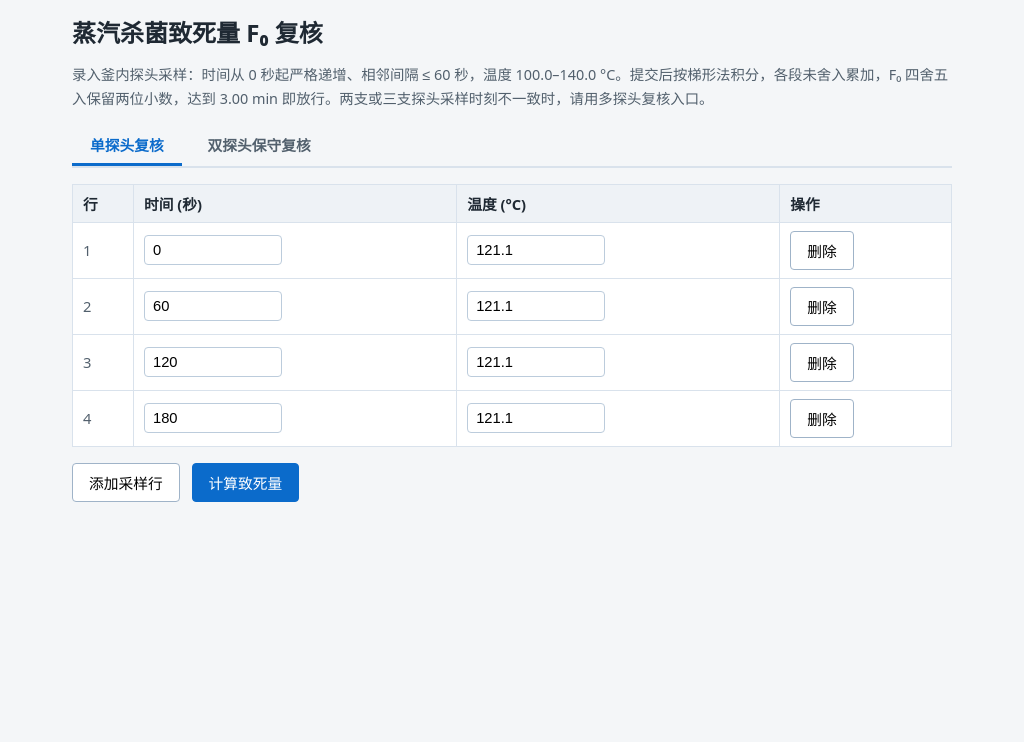
双探头结果展示：图形与明细同一响应 › 展示保守结论、两探头总量与带来源的保守段明细
This screenshot has width=1024, height=742.
Click the tab "双探头保守复核" at point(259, 146), box [190, 126, 329, 166]
(page scrolled)
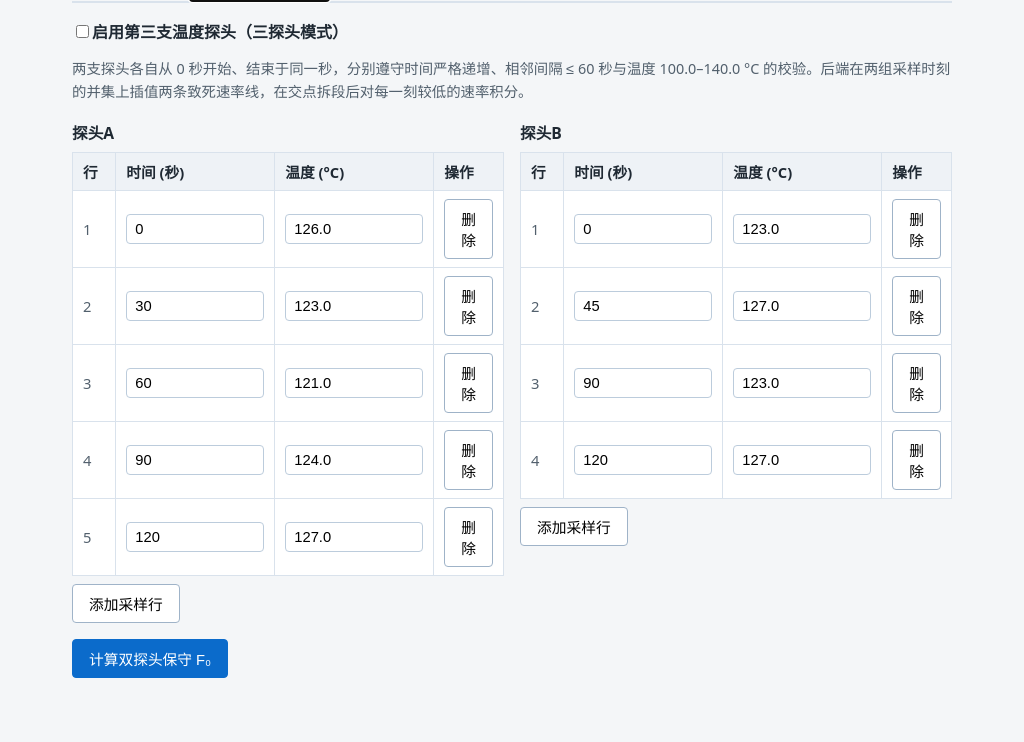
Click the button with test id "dual-submit" at point(150, 659), box [72, 639, 228, 678]
(page scrolled)
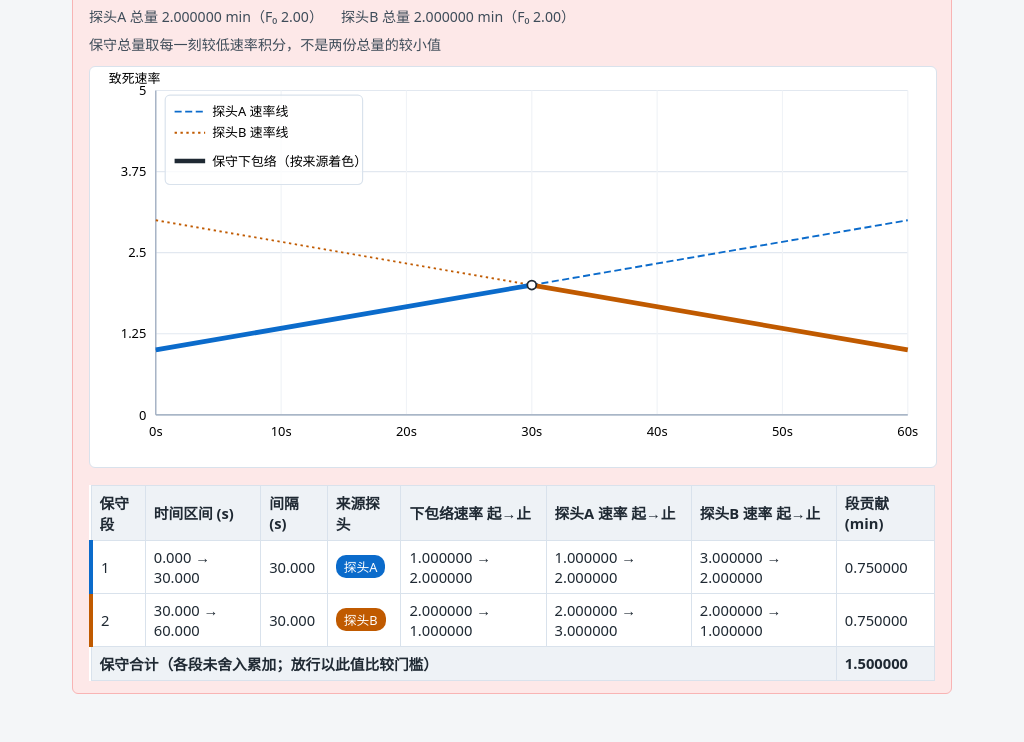
Expected: the element with test id "dual-totals" shows "探头A 总量 2.000000", [89, 7, 575, 54]
Expected: the element with test id "dual-totals" shows "探头B 总量 2.000000", [89, 7, 575, 54]
Expected: the row that starts with "探头A" is shown, [344, 558, 378, 576]
